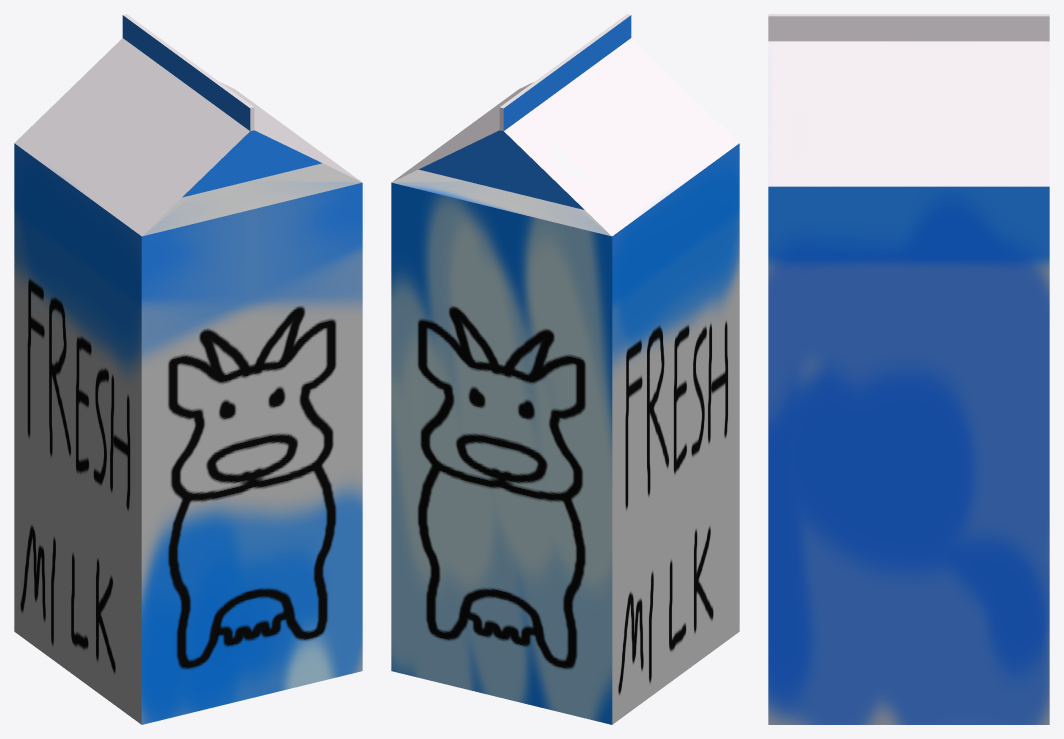
The model's file is milk.fbx.
3 renders of one model, left to right at view 1: azimuth 30°, elevation 25°; view 2: azimuth 150°, elevation 25°; view 3: azimuth 270°, elevation 25°, orthographic. The views are drawn at different scales.
Parts seen in each view (by area): view 1: Cube; view 2: Cube; view 3: Cube.
Part boxes in pixels (left/top/right/bottom): Cube: left=14, top=14, right=362, bottom=724; Cube: left=391, top=14, right=739, bottom=724; Cube: left=768, top=14, right=1049, bottom=724.
Size of the model in its own units: 200 by 511 by 200.
1 material, 1 textured.
